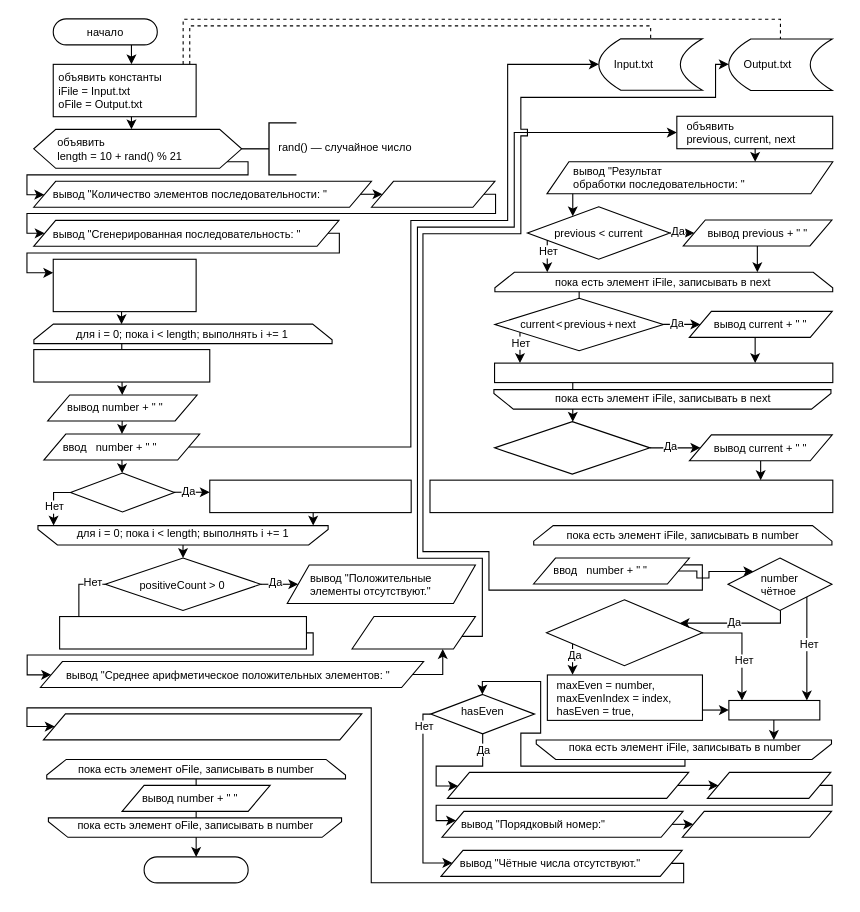
The diagram is 860 pixels wide and 912 high, and some of its shapes have lost their labels. Here are the shapes that lost their labels. From the top down, the centre of each, then its label:
the point at 432,193: вывод length
the point at 124,285: объявить positiveSum = 0, positiveCount = 0
the point at 121,365: объявить number = rand() % 101 - 50
the point at 663,372: previous = current, current = next
the point at 571,447: current < previous
the point at 121,492: number > 0
the point at 310,496: positiveSum += number, positiveCount += positiveCount
the point at 631,496: объявить number, index = 0, maxEven = 0, maxEvenIndex = -1, hasEven = false
the point at 182,632: объявить average = positiveSum / positiveCount
the point at 413,632: вывод average
the point at 623,632: hasEven не истино или number > maxEven
the point at 202,726: вывод "Последовательность из файла Output.txt: "
the point at 774,709: index += 1
the point at 567,784: вывод "Максимальное чётное число: "
the point at 768,784: вывод maxEven
the point at 756,823: вывод maxEvenIndex
the point at 195,869: конец
